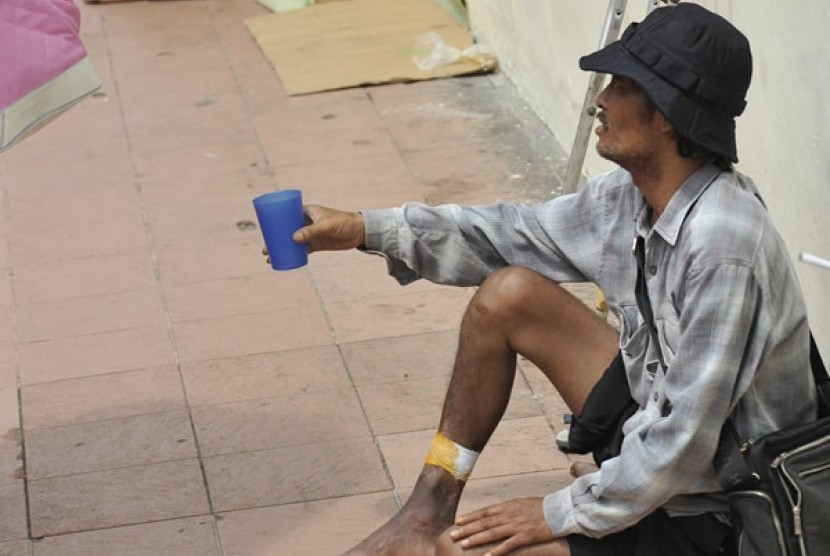gelandangan: (227, 2, 830, 556)
pemulung: (246, 4, 830, 556)
